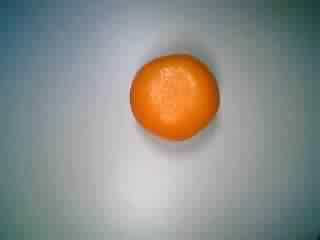orange: (128, 51, 223, 145)
